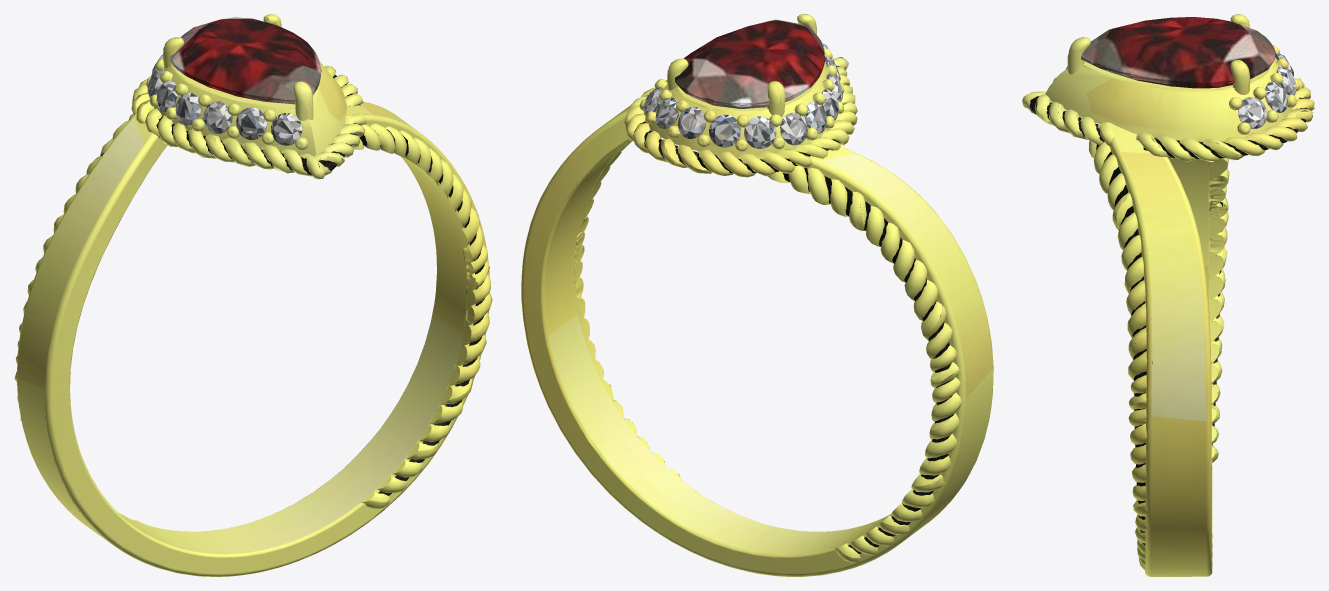
Rendered from ring14.glb.
3 views of the same model, side by side, from view 1: azimuth 30°, elevation 25°; view 2: azimuth 150°, elevation 25°; view 3: azimuth 270°, elevation 25° (orthographic).
Visible parts, largest first — view 1: body, core, diamond, black; view 2: body, core, diamond, black; view 3: body, core, black, diamond.
Boxes of the visible parts, bbox=[...] form: body: bbox=[14, 14, 492, 576]; core: bbox=[170, 17, 321, 104]; diamond: bbox=[147, 55, 302, 145]; black: bbox=[45, 75, 484, 511]; body: bbox=[521, 14, 993, 576]; core: bbox=[675, 19, 825, 108]; diamond: bbox=[643, 43, 842, 148]; black: bbox=[634, 65, 954, 553]; body: bbox=[1022, 14, 1314, 576]; core: bbox=[1081, 17, 1275, 88]; black: bbox=[1029, 96, 1308, 545]; diamond: bbox=[1065, 52, 1296, 128].
Bounding box in the file's own units: 18.68 × 20.73 × 10.61.
4 materials, 4 textured.
